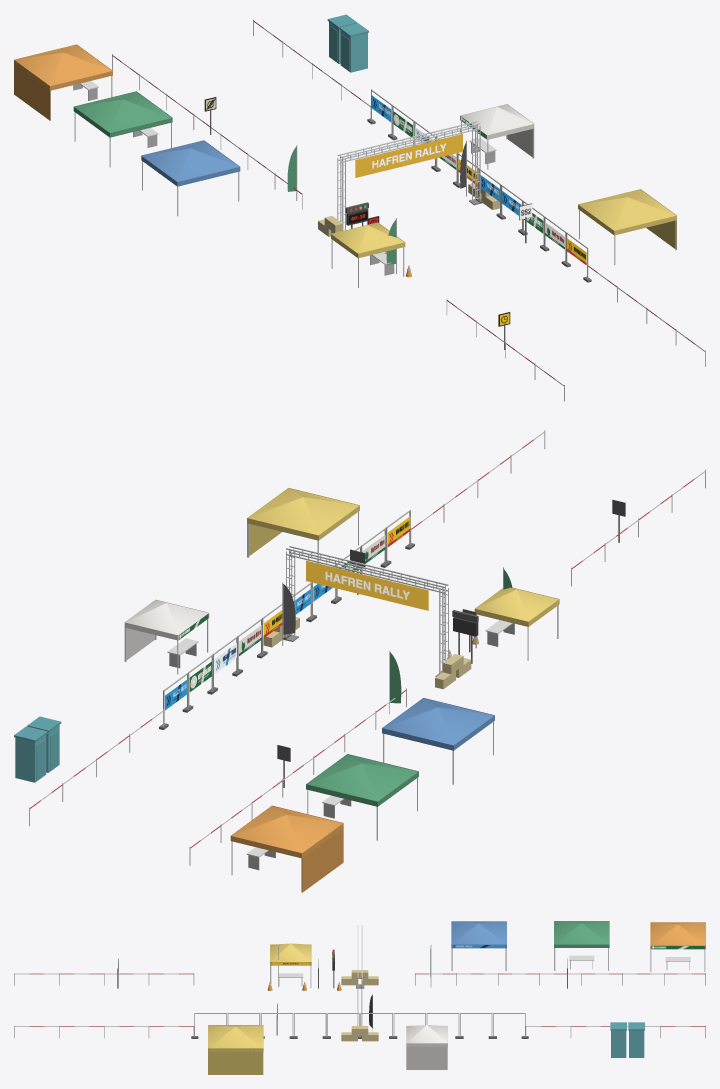
File: start_12.glb
The picture shows the model from 3 angles, top to bottom: view 1: azimuth 30°, elevation 25°; view 2: azimuth 150°, elevation 25°; view 3: azimuth 270°, elevation 25°; orthographic projection. The views are drawn at different scales.
Size of the model in its own units: 21.78 by 4.86 by 50.05.
53 materials, 21 textured.
